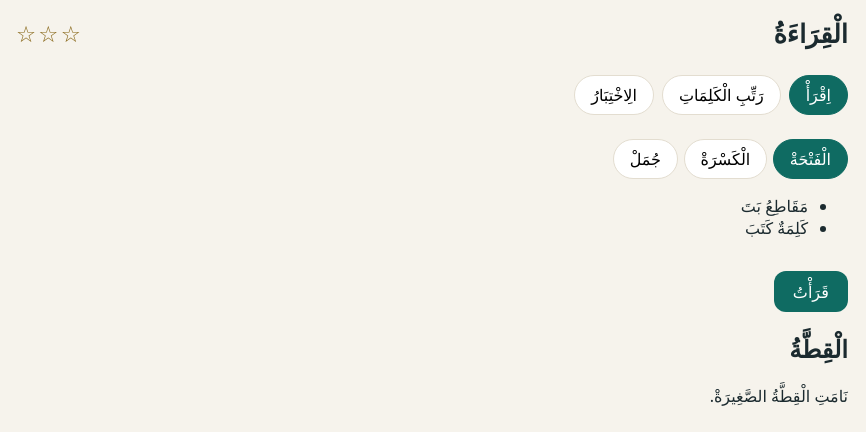
it: ReadingLesson (P0-5c) › the quiz opens on the stage-vowel question
Click the button "الِاخْتِبَارُ" at [614, 95], box [574, 75, 654, 115]
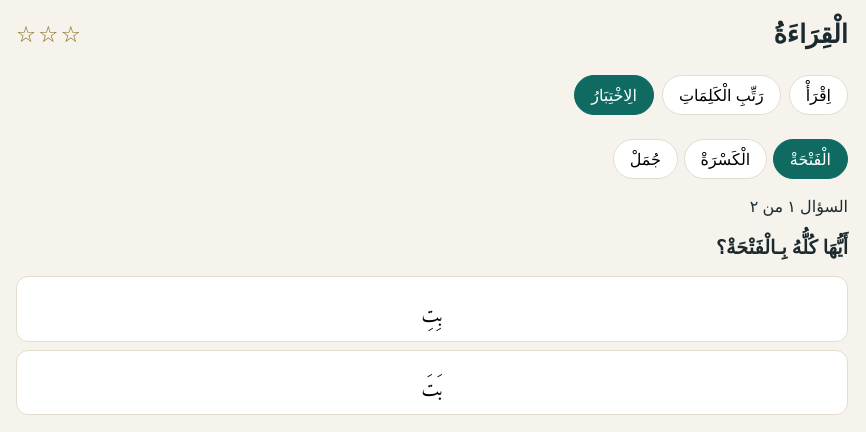
expect the heading "أَيُّهَا كُلُّهُ بِـالْفَتْحَةْ؟" is shown: met, box [716, 233, 848, 260]
